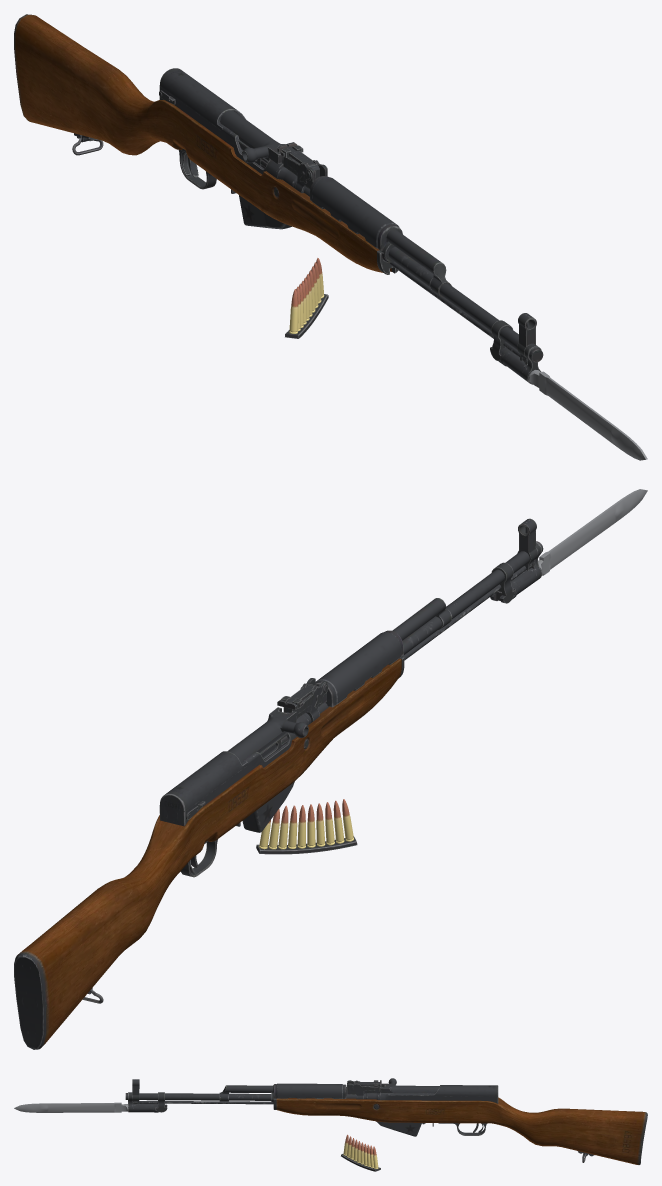
Rendered from gun-semiRifle.glb.
3 views of the same model, one above another, from view 1: azimuth 30°, elevation 25°; view 2: azimuth 150°, elevation 25°; view 3: azimuth 270°, elevation 25° (orthographic). The views are drawn at different scales.
Visible parts, largest first — view 1: SKS, bayonet, clip, bolt, fixed_mag; view 2: SKS, clip, bayonet, bolt, fixed_mag; view 3: SKS, bayonet, clip, bolt, fixed_mag.
Part boxes in pixels (x1=…): SKS: x1=14, y1=14, x2=543, y2=365; bayonet: x1=498, y1=343, x2=647, y2=460; clip: x1=285, y1=258, x2=328, y2=338; bolt: x1=220, y1=110, x2=287, y2=166; fixed_mag: x1=239, y1=195, x2=291, y2=229; SKS: x1=14, y1=518, x2=543, y2=1049; clip: x1=256, y1=799, x2=357, y2=854; bayonet: x1=496, y1=489, x2=647, y2=600; bolt: x1=227, y1=707, x2=308, y2=762; fixed_mag: x1=242, y1=781, x2=294, y2=832; SKS: x1=125, y1=1079, x2=647, y2=1164; bayonet: x1=14, y1=1092, x2=158, y2=1112; clip: x1=341, y1=1134, x2=380, y2=1171; bolt: x1=380, y1=1078, x2=439, y2=1093; fixed_mag: x1=376, y1=1121, x2=421, y2=1136.
Bounding box in the file's own units: 0.0415 × 0.0914 × 0.616.
Materials: 1 (1 with a texture image).
